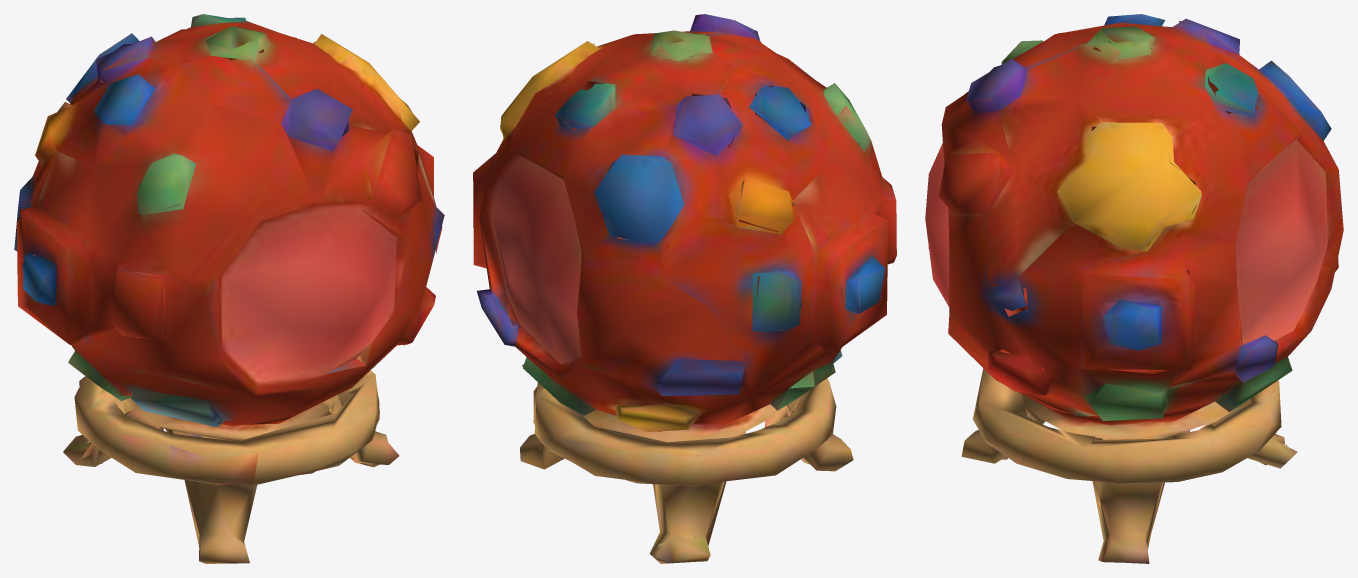
Rendered from lg-crystal-orb.glb.
3 renders of one model, left to right at view 1: azimuth 30°, elevation 25°; view 2: azimuth 150°, elevation 25°; view 3: azimuth 270°, elevation 25°, orthographic.
Visible parts, largest first — view 1: geometry_0; view 2: geometry_0; view 3: geometry_0.
Part boxes in pixels (left/top/right/bottom): geometry_0: left=14, top=14, right=444, bottom=563; geometry_0: left=473, top=14, right=896, bottom=563; geometry_0: left=925, top=14, right=1343, bottom=563.
Size of the model in its own units: 0.8864 by 1 by 0.8214.
1 material, 1 textured.
